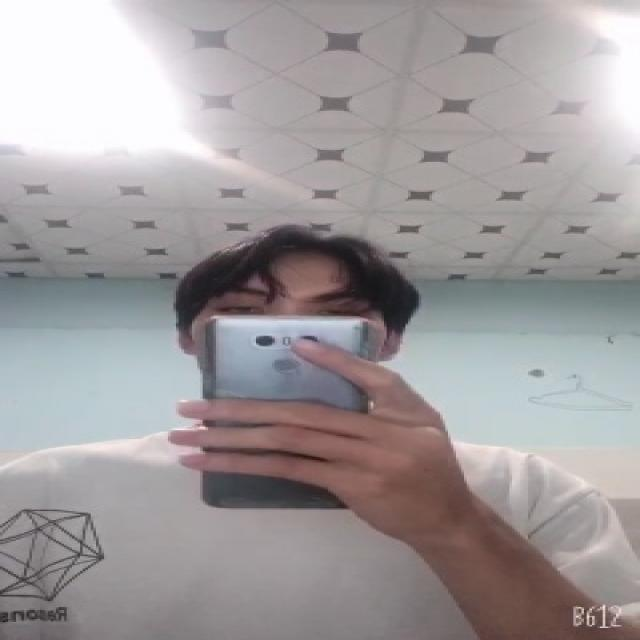Phone: (202, 314, 378, 513)
